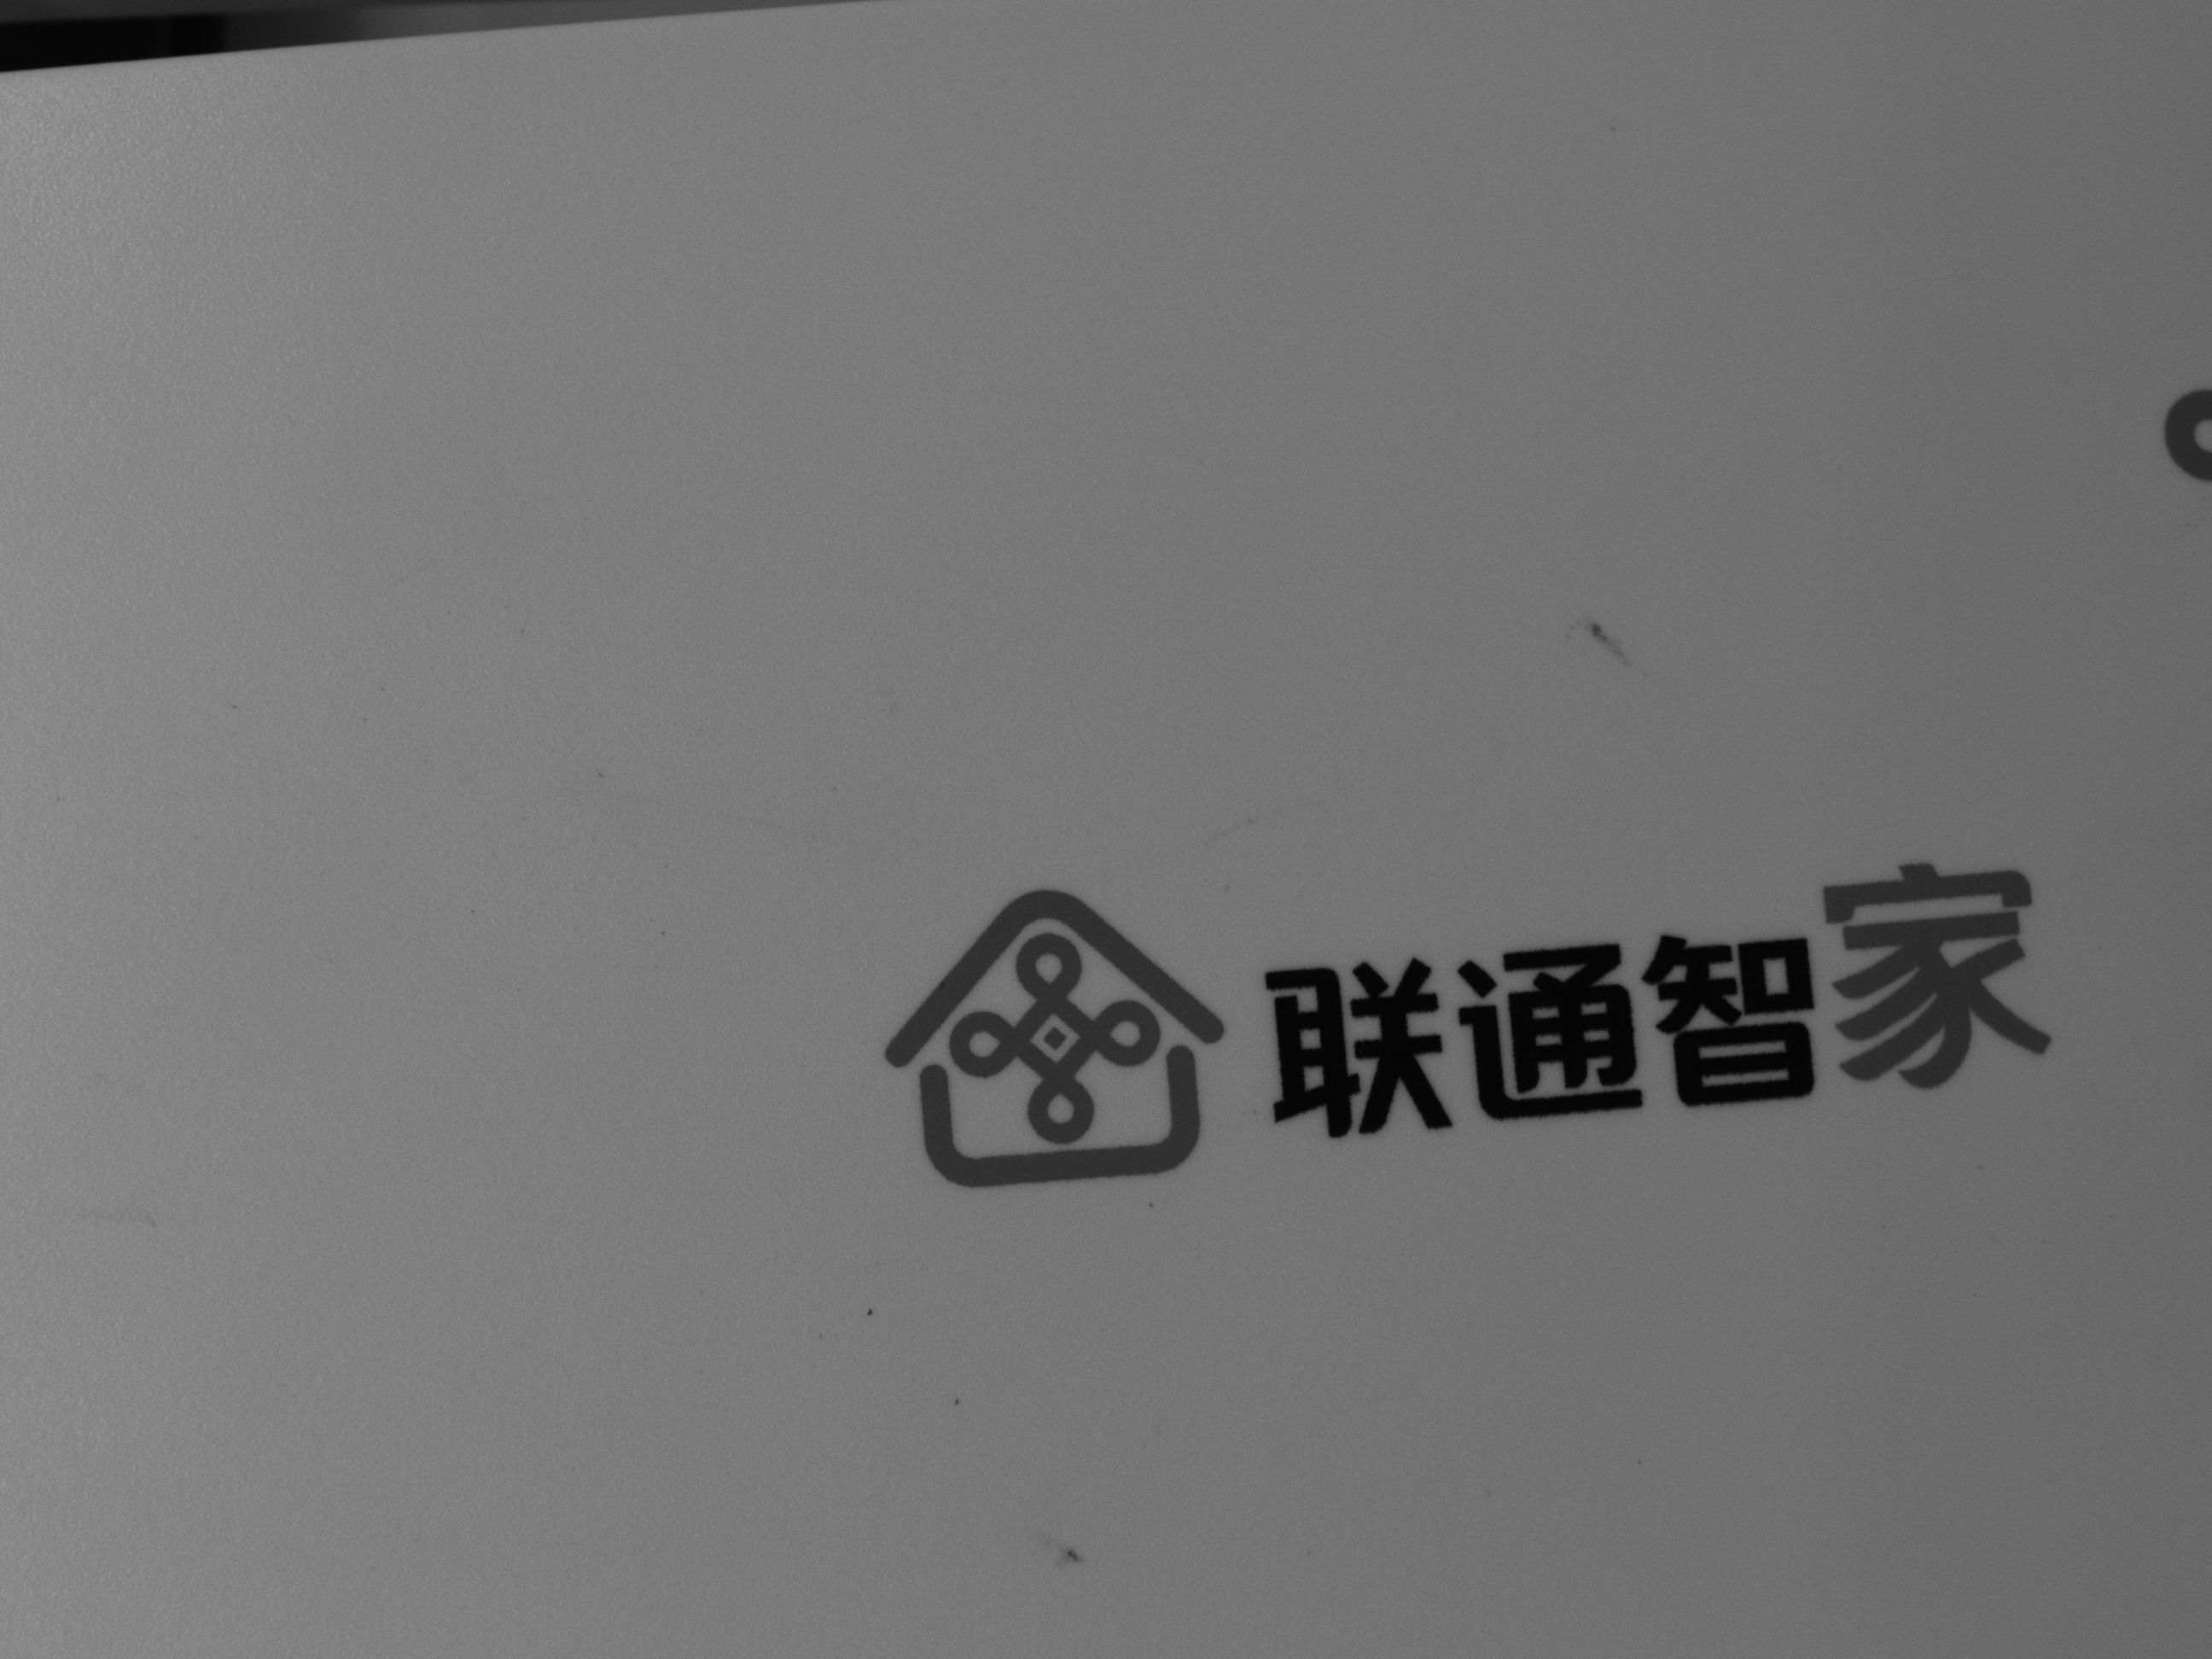BY_F6610Unicome: (841, 833, 2074, 1190)
